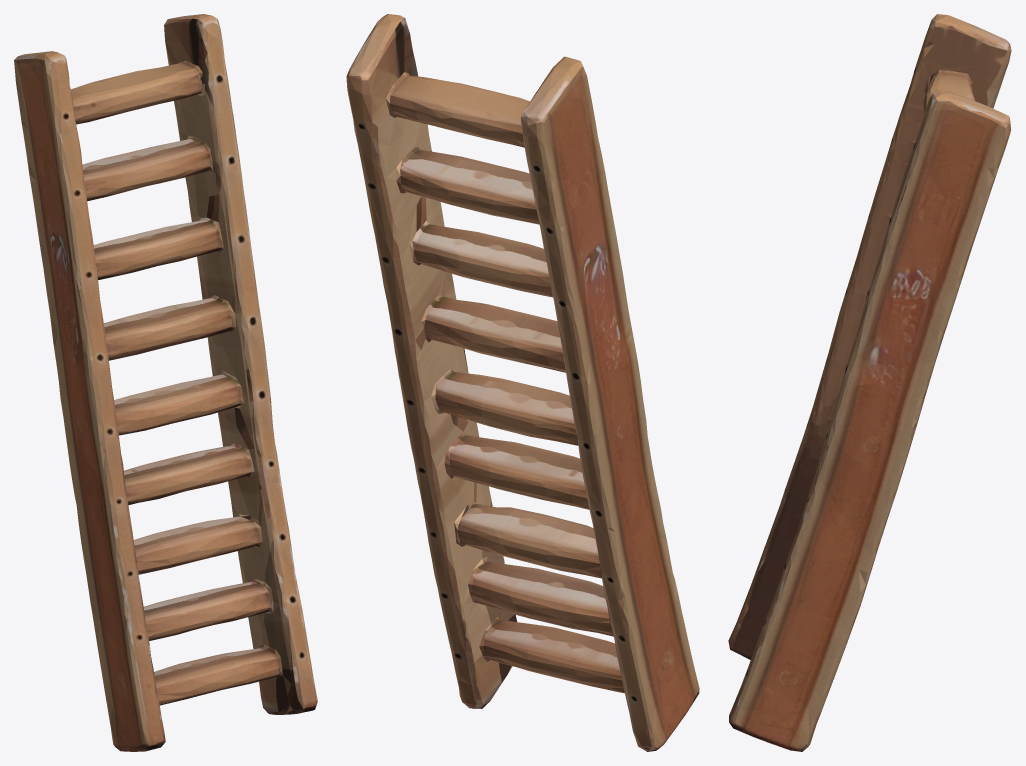
The model's file is ladder.glb.
3 views of the same model, side by side, from view 1: azimuth 30°, elevation 25°; view 2: azimuth 150°, elevation 25°; view 3: azimuth 270°, elevation 25° (orthographic). The views are drawn at different scales.
Visible parts, largest first — view 1: tmpb1qhf5r7.ply; view 2: tmpb1qhf5r7.ply; view 3: tmpb1qhf5r7.ply.
Part boxes in pixels (x1,y1,x2,y2): tmpb1qhf5r7.ply: (14,14,317,751); tmpb1qhf5r7.ply: (346,14,699,751); tmpb1qhf5r7.ply: (728,14,1011,751).
Size of the model in its own units: 0.5635 by 2 by 0.7779.
1 material, 1 textured.
